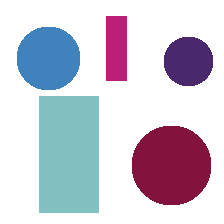circle: (132, 126, 210, 204), (17, 27, 79, 89), (164, 37, 212, 85)
rectangle: (39, 96, 98, 212), (106, 16, 126, 80)
